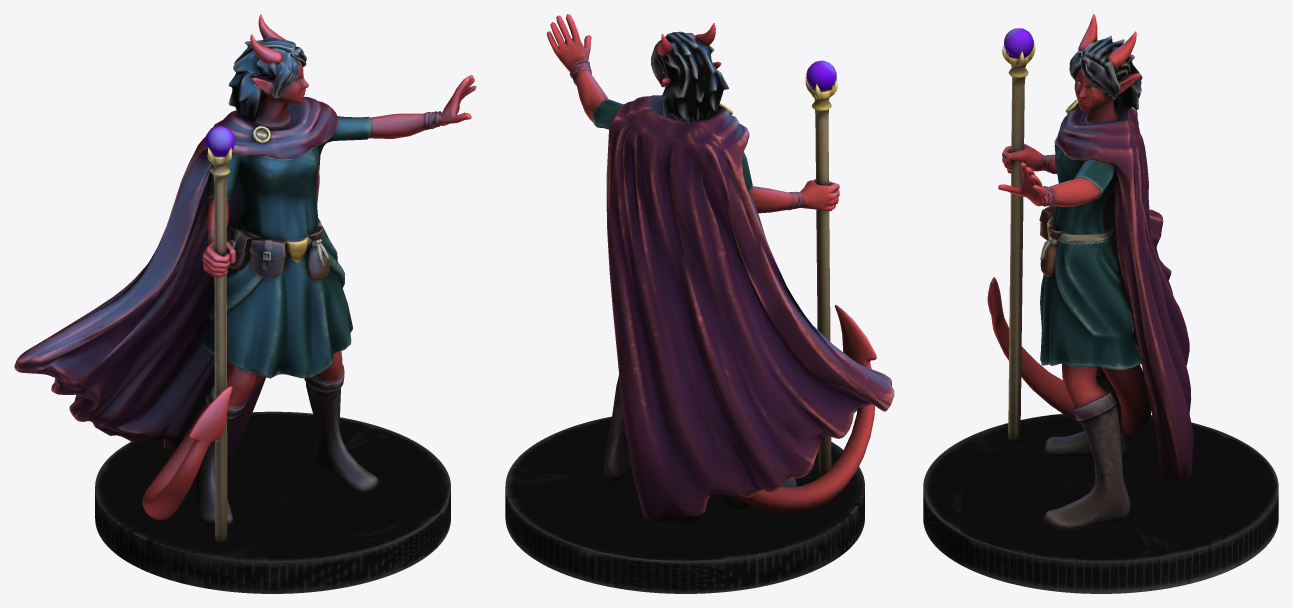
Rendered from MZ4250 - Tiefling Spellcaster (Red).glb.
3 views of the same model, side by side, from view 1: azimuth 30°, elevation 25°; view 2: azimuth 150°, elevation 25°; view 3: azimuth 270°, elevation 25° (orthographic).
Visible parts, largest first — view 1: body_low.001, base_low.001, staff_low.001, pouch_low.001, bag_low.001, pouch_2_low.001; view 2: body_low.001, base_low.001, staff_low.001; view 3: body_low.001, base_low.001, staff_low.001, bag_low.001.
Boxes of the visible parts, bbox=[...] form: body_low.001: bbox=[14, 14, 476, 525]; base_low.001: bbox=[95, 411, 450, 593]; staff_low.001: bbox=[205, 126, 235, 541]; pouch_low.001: bbox=[249, 237, 287, 278]; bag_low.001: bbox=[306, 226, 329, 281]; pouch_2_low.001: bbox=[226, 225, 253, 268]; body_low.001: bbox=[546, 14, 894, 522]; base_low.001: bbox=[505, 416, 864, 593]; staff_low.001: bbox=[805, 60, 837, 476]; body_low.001: bbox=[987, 14, 1194, 528]; base_low.001: bbox=[923, 413, 1278, 593]; staff_low.001: bbox=[1002, 28, 1035, 440]; bag_low.001: bbox=[1040, 226, 1062, 277].
Size of the model in its own units: 1.7 by 2 by 1.31.
1 material, 1 textured.
